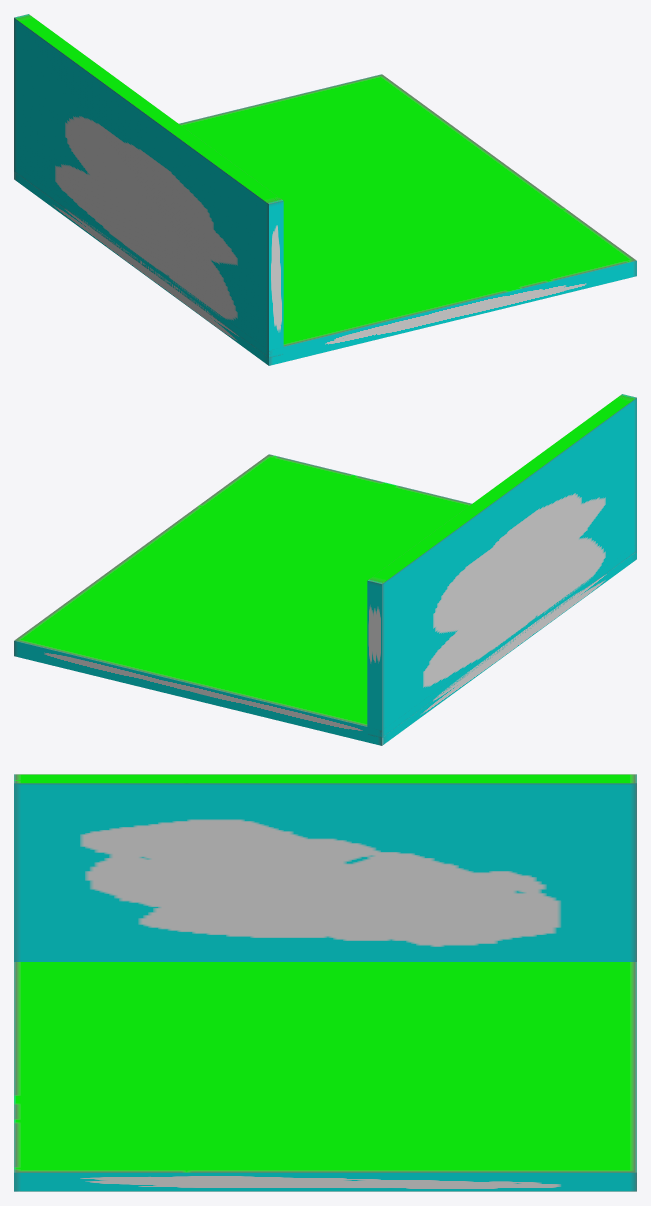
The model's file is BattleStage.fbx.
3 renders of one model, top to bottom at view 1: azimuth 30°, elevation 25°; view 2: azimuth 150°, elevation 25°; view 3: azimuth 270°, elevation 25°, orthographic. The views are drawn at different scales.
Visible parts, largest first — view 1: pCube3; view 2: pCube3; view 3: pCube3.
Part boxes in pixels (left/top/right/bottom): pCube3: left=14, top=14, right=636, bottom=365; pCube3: left=14, top=394, right=636, bottom=745; pCube3: left=14, top=774, right=636, bottom=1191.
Size of the model in its own units: 25 by 10.5 by 30.
Materials: 1 (1 with a texture image).
